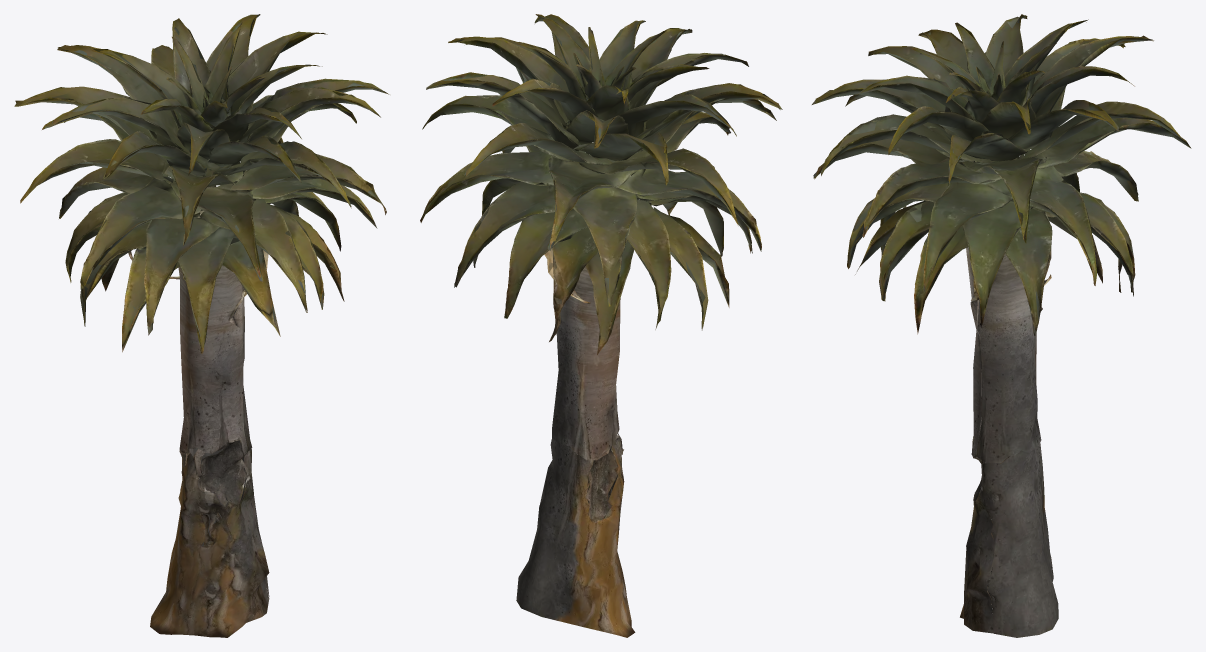
File: qtree_b.glb
3 views of the same model, side by side, from view 1: azimuth 30°, elevation 25°; view 2: azimuth 150°, elevation 25°; view 3: azimuth 270°, elevation 25° (orthographic).
Visible parts, largest first — view 1: qtree_b_v0_lod0; view 2: qtree_b_v0_lod0; view 3: qtree_b_v0_lod0.
Part boxes in pixels (bbox=[...]): qtree_b_v0_lod0: bbox=[14, 14, 389, 637]; qtree_b_v0_lod0: bbox=[420, 14, 782, 637]; qtree_b_v0_lod0: bbox=[812, 14, 1191, 637].
Size of what is drawn, in the model's own units: 2.09 by 3.52 by 2.1.
Materials: 1 (1 with a texture image).
